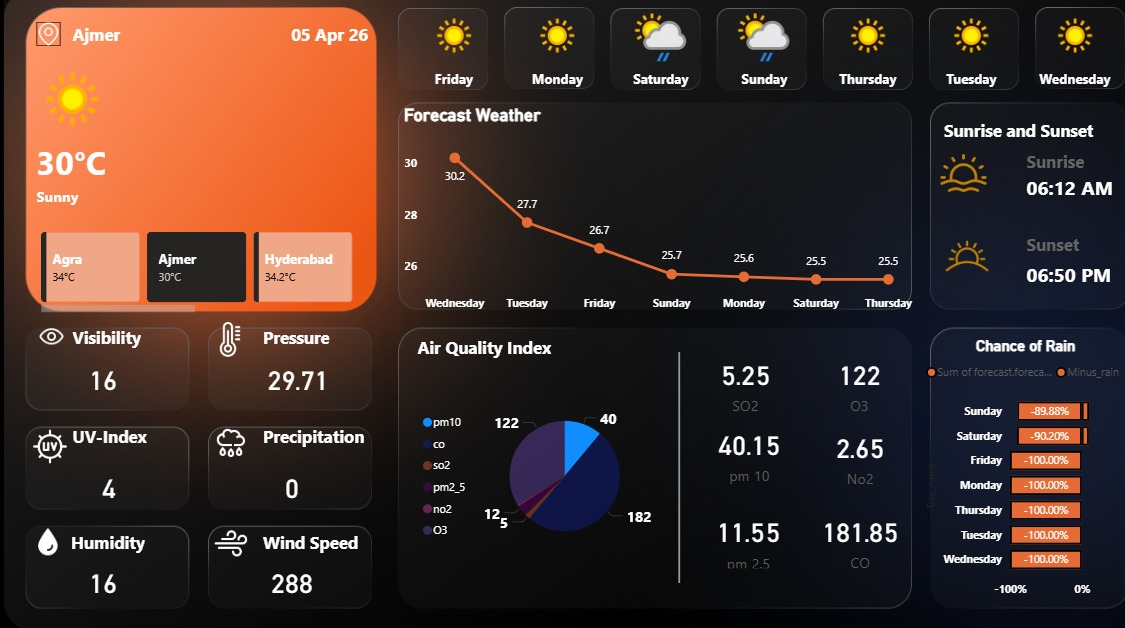

What the dashboard file says about the page in this screenshot:
{"tool":"powerbi","page":{"name":"Page 1","canvas":[1280,720],"ordinal":0},"visuals":[{"type":"advancedSlicerVisual","fields":{"Values":["Locations.location.name"]},"box":[65,258.3,356.7,101.7],"z":0},{"type":"shape","box":[65,150,145,70],"z":1000},{"type":"shape","box":[65,188.3,116.7,70],"z":2000},{"type":"shape","box":[105,8.3,116.7,70],"z":3000},{"type":"shape","box":[316.7,8.3,116.7,70],"z":4000},{"type":"image","box":[65,30,26.7,26.7],"z":5000},{"type":"cardVisual","fields":{"Data":["Min(CURRENT.current.condition.icon)"]},"box":[0,8.3,210,176.7],"z":6000},{"type":"image","box":[60,363.3,43.3,31.7],"z":7000},{"type":"shape","box":[105,345,193.3,70],"z":8000},{"type":"image","box":[60,478.3,40,46.7],"z":9000},{"type":"shape","box":[105,455,193.3,70],"z":10000},{"type":"image","box":[50,591.7,55,31.7],"z":11000},{"type":"shape","box":[103.3,573.3,193.3,70],"z":12000},{"type":"image","box":[243.3,363.3,73.3,38.3],"z":13000},{"type":"shape","box":[316.7,345,193.3,70],"z":14000},{"type":"image","box":[251.7,478.3,58.3,38.3],"z":15000},{"type":"shape","box":[316.7,455,193.3,70],"z":16000},{"type":"image","box":[251.7,590,58.3,38.3],"z":17000},{"type":"shape","box":[316.7,573.3,193.3,70],"z":18000},{"type":"card","fields":{"Values":["Sum(CURRENT.current.humidity)"]},"box":[63.3,351.7,150,150],"z":19000},{"type":"card","fields":{"Values":["Sum(CURRENT.current.pressure_in)"]},"box":[280,351.7,150,150],"z":20000},{"type":"card","fields":{"Values":["Sum(CURRENT.current.uv)"]},"box":[70,471.7,150,150],"z":21000},{"type":"card","fields":{"Values":["Sum(CURRENT.current.precip_in)"]},"box":[273.3,471.7,150,150],"z":22000},{"type":"card","fields":{"Values":["Sum(CURRENT.current.humidity)"]},"box":[70,603.3,136.7,98.3],"z":23000},{"type":"card","fields":{"Values":["Sum(CURRENT.current.wind_degree)"]},"box":[281.7,603.3,133.3,98.3],"z":24000},{"type":"advancedSlicerVisual","fields":{"Values":["FORECAST_day.Day_name"]},"box":[468.3,5,811.7,116.7],"z":25000},{"type":"lineChart","title":"Forecast Weather","fields":{"Y":["Avg(FORECAST_day.forecast.forecastday.day.avgtemp_c)"],"Category":["FORECAST_day.Day_name"]},"box":[468.3,121.7,580,238.3],"z":26000},{"type":"shape","box":[1073.3,115,193.3,70],"z":27000},{"type":"shape","box":[1165,185,115,56.7],"z":28000},{"type":"shape","box":[1165,275,101.7,70],"z":29000},{"type":"shape","box":[1165,150,78.3,70],"z":30000},{"type":"shape","box":[1165,241.7,78.3,70],"z":31000},{"type":"image","box":[1060,171.7,70,51.7],"z":32000},{"type":"image","box":[1060,258.3,78.3,63.3],"z":33000},{"type":"hundredPercentStackedBarChart","title":"Chance of Rain","fields":{"Y":["Sum(FORECAST_day.forecast.forecastday.day.daily_chance_of_rain)","_Measures.Minus_rain"],"Category":["FORECAST_day.Day_name"]},"box":[1048.3,380,231.7,298.3],"z":34000},{"type":"shape","box":[488.3,356.7,193.3,70],"z":35000},{"type":"card","fields":{"Values":["Sum(CURRENT.current.air_quality.o3)"]},"box":[921.7,388.3,115,86.7],"z":36000},{"type":"card","fields":{"Values":["Sum(CURRENT.current.air_quality.so2)"]},"box":[805,391.7,95,80],"z":37000},{"type":"card","fields":{"Values":["Sum(CURRENT.current.air_quality.no2)"]},"box":[935,475,90,75],"z":38000},{"type":"card","fields":{"Values":["Sum(CURRENT.current.air_quality.co)"]},"box":[931.7,568.3,96.7,75],"z":39000},{"type":"card","fields":{"Values":["Sum(CURRENT.current.air_quality.pm2_5)"]},"box":[805,571.7,101.7,70],"z":40000},{"type":"card","fields":{"Values":["Sum(CURRENT.current.air_quality.pm10)"]},"box":[805,470,103.3,78.3],"z":41000},{"type":"shape","box":[758.3,396.7,41.7,256.7],"z":42000},{"type":"pieChart","fields":{"Y":["Avg(CURRENT.current.air_quality.pm10)","Avg(CURRENT.current.air_quality.co)","Avg(CURRENT.current.air_quality.so2)","Avg(CURRENT.current.air_quality.pm2_5)","Avg(CURRENT.current.air_quality.no2)","Avg(CURRENT.current.air_quality.o3)"]},"box":[488.3,415,270,238.3],"z":43000}]}

Visuals, with their boxes in screenshot pixels (x1, y1, x2, y2), scaled from the page's 1280x720 canvas onto the 1125x628 screenshot:
advancedSlicerVisual - Locations.location.name: bbox=[57, 225, 371, 314]
shape: bbox=[57, 131, 185, 192]
shape: bbox=[57, 164, 160, 225]
shape: bbox=[92, 7, 195, 68]
shape: bbox=[278, 7, 381, 68]
image: bbox=[57, 26, 81, 49]
cardVisual - Min(CURRENT.current.condition.icon): bbox=[0, 7, 185, 161]
image: bbox=[53, 317, 91, 345]
shape: bbox=[92, 301, 262, 362]
image: bbox=[53, 417, 88, 458]
shape: bbox=[92, 397, 262, 458]
image: bbox=[44, 516, 92, 544]
shape: bbox=[91, 500, 261, 561]
image: bbox=[214, 317, 278, 350]
shape: bbox=[278, 301, 448, 362]
image: bbox=[221, 417, 272, 451]
shape: bbox=[278, 397, 448, 458]
image: bbox=[221, 515, 272, 548]
shape: bbox=[278, 500, 448, 561]
card - Sum(CURRENT.current.humidity): bbox=[56, 307, 187, 438]
card - Sum(CURRENT.current.pressure_in): bbox=[246, 307, 378, 438]
card - Sum(CURRENT.current.uv): bbox=[62, 411, 193, 542]
card - Sum(CURRENT.current.precip_in): bbox=[240, 411, 372, 542]
card - Sum(CURRENT.current.humidity): bbox=[62, 526, 182, 612]
card - Sum(CURRENT.current.wind_degree): bbox=[248, 526, 365, 612]
advancedSlicerVisual - FORECAST_day.Day_name: bbox=[412, 4, 1124, 106]
"Forecast Weather" lineChart: bbox=[412, 106, 921, 314]
shape: bbox=[943, 100, 1113, 161]
shape: bbox=[1024, 161, 1124, 211]
shape: bbox=[1024, 240, 1113, 301]
shape: bbox=[1024, 131, 1093, 192]
shape: bbox=[1024, 211, 1093, 272]
image: bbox=[932, 150, 993, 195]
image: bbox=[932, 225, 1000, 281]
"Chance of Rain" hundredPercentStackedBarChart: bbox=[921, 331, 1124, 592]
shape: bbox=[429, 311, 599, 372]
card - Sum(CURRENT.current.air_quality.o3): bbox=[810, 339, 911, 414]
card - Sum(CURRENT.current.air_quality.so2): bbox=[708, 342, 791, 411]
card - Sum(CURRENT.current.air_quality.no2): bbox=[822, 414, 901, 480]
card - Sum(CURRENT.current.air_quality.co): bbox=[819, 496, 904, 561]
card - Sum(CURRENT.current.air_quality.pm2_5): bbox=[708, 499, 797, 560]
card - Sum(CURRENT.current.air_quality.pm10): bbox=[708, 410, 798, 478]
shape: bbox=[666, 346, 703, 570]
pieChart - Avg(CURRENT.current.air_quality.pm10) x Avg(CURRENT.current.air_quality.co): bbox=[429, 362, 666, 570]
